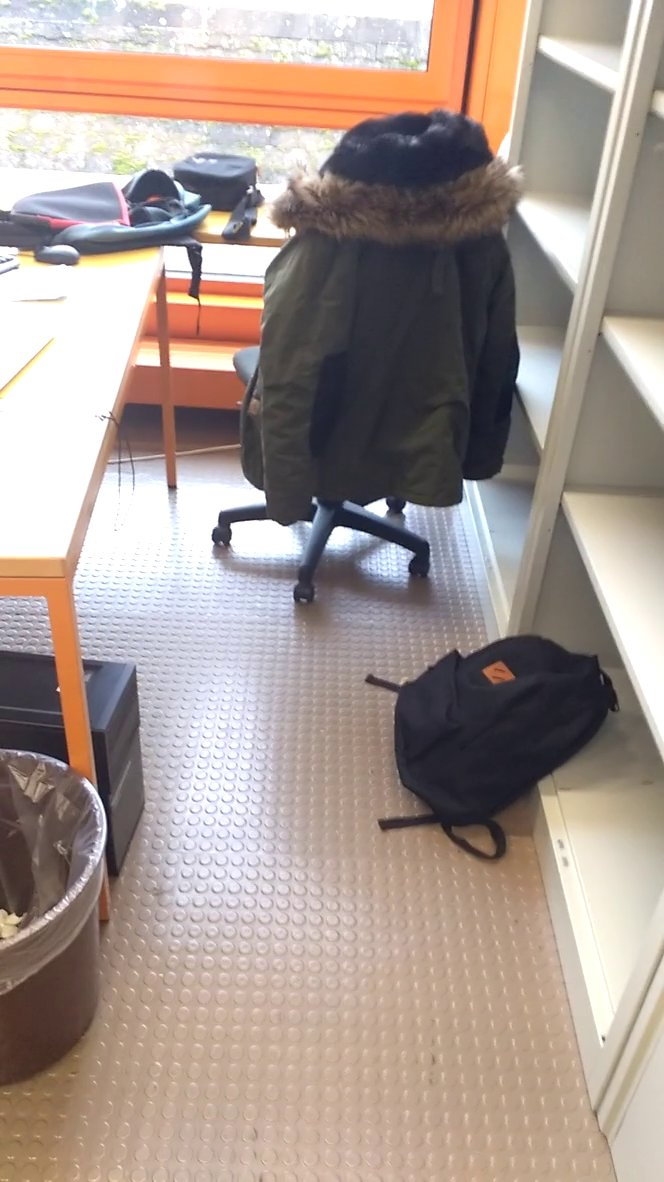bag: (355, 628, 624, 868)
